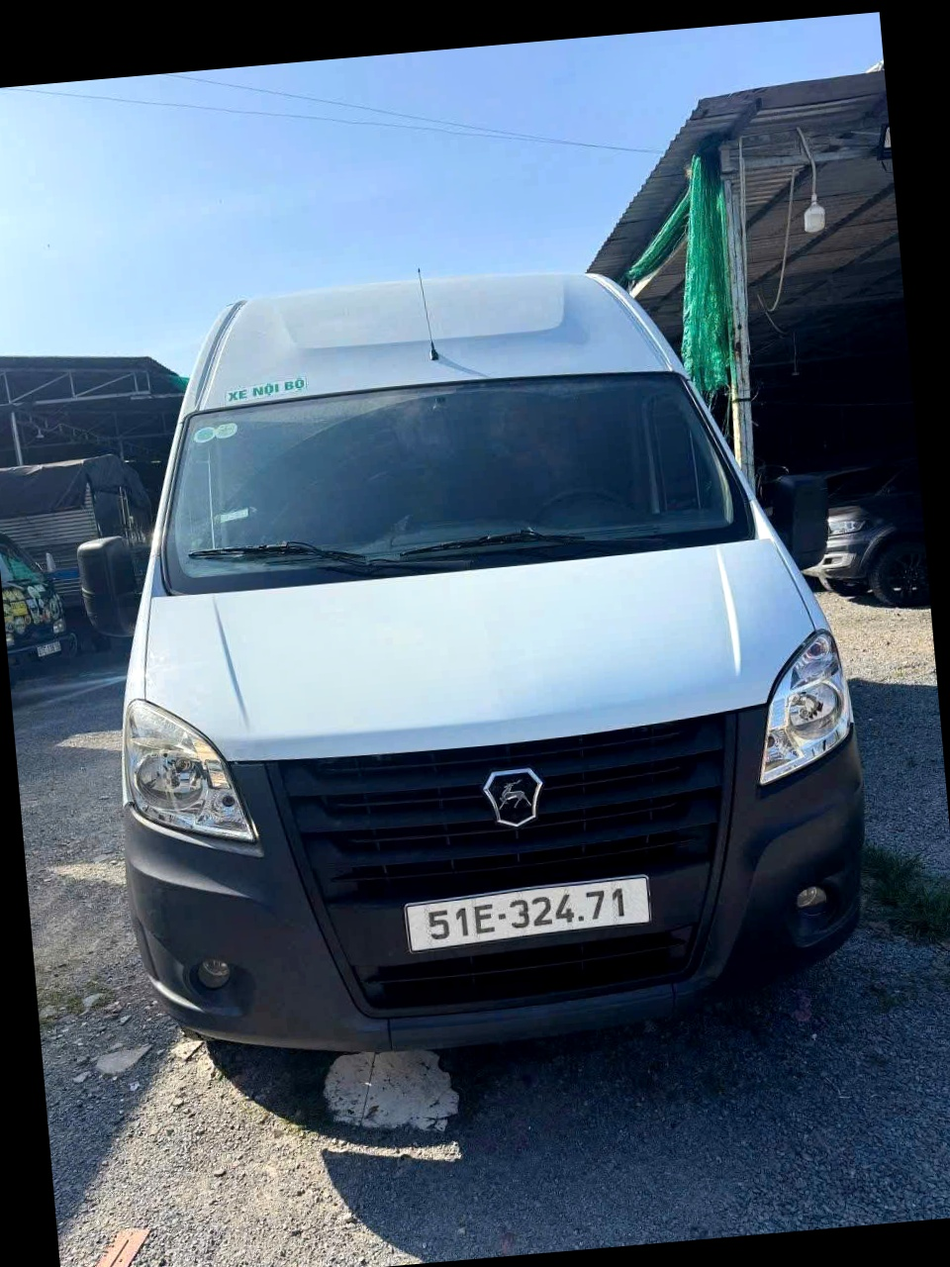Bien-so: (360, 859, 614, 920)
